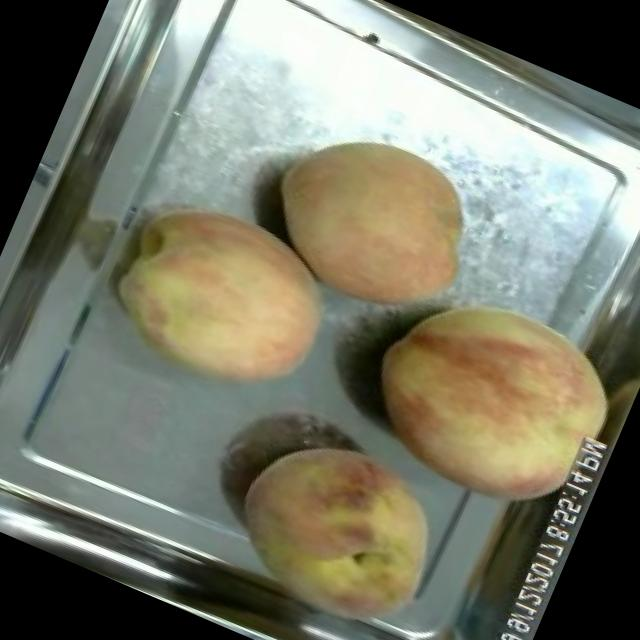Fruit: (335, 256, 640, 544), (86, 170, 363, 426), (238, 96, 508, 348), (202, 401, 475, 640)
